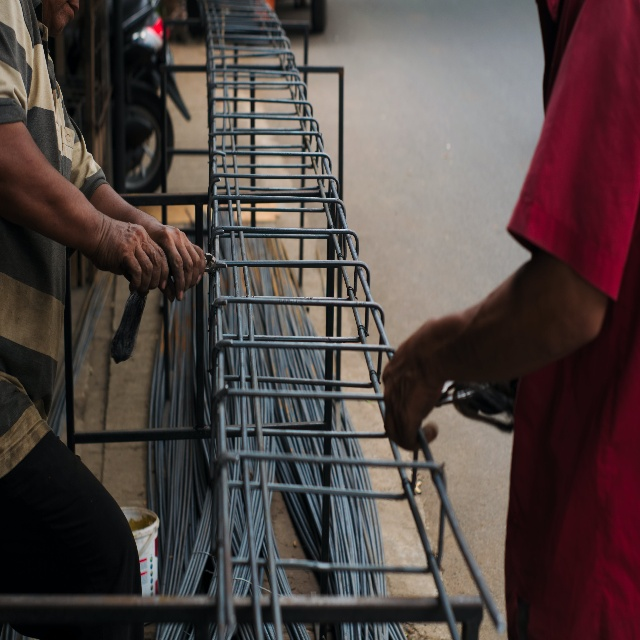Sin_guantes: (379, 318, 455, 447), (98, 209, 169, 293), (151, 217, 206, 301)
